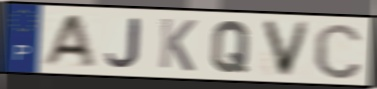A: (38, 13, 98, 68)
C: (312, 21, 364, 82)
J: (104, 17, 142, 70)
K: (157, 16, 199, 74)
Q: (209, 19, 253, 75)
V: (259, 18, 314, 79)
